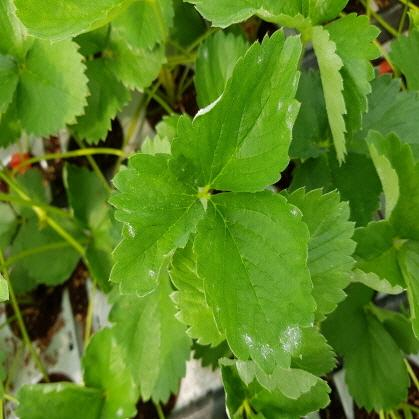Powdery Mildew Leaf: (190, 188, 317, 376), (166, 25, 304, 194), (104, 151, 204, 297)
